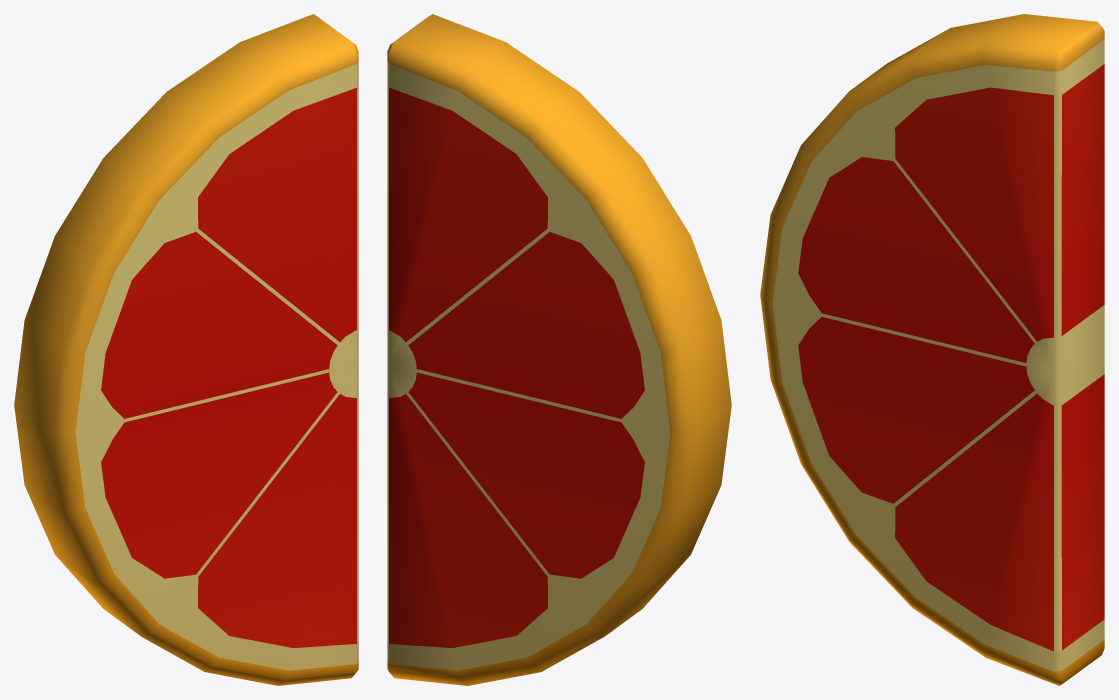
The model's file is Half_a_orange_red_wedge.fbx.
The picture shows the model from 3 angles, left to right: view 1: azimuth 30°, elevation 25°; view 2: azimuth 150°, elevation 25°; view 3: azimuth 330°, elevation 25°; orthographic projection.
Visible parts, largest first — view 1: Half_a_orange_red_wedge; view 2: Half_a_orange_red_wedge; view 3: Half_a_orange_red_wedge.
Boxes of the visible parts, x1,y1,x2,y2 form: Half_a_orange_red_wedge: (14, 14, 358, 685); Half_a_orange_red_wedge: (387, 14, 731, 685); Half_a_orange_red_wedge: (760, 14, 1104, 685).
Size of the model in its own units: 62.81 by 126 by 17.45.
